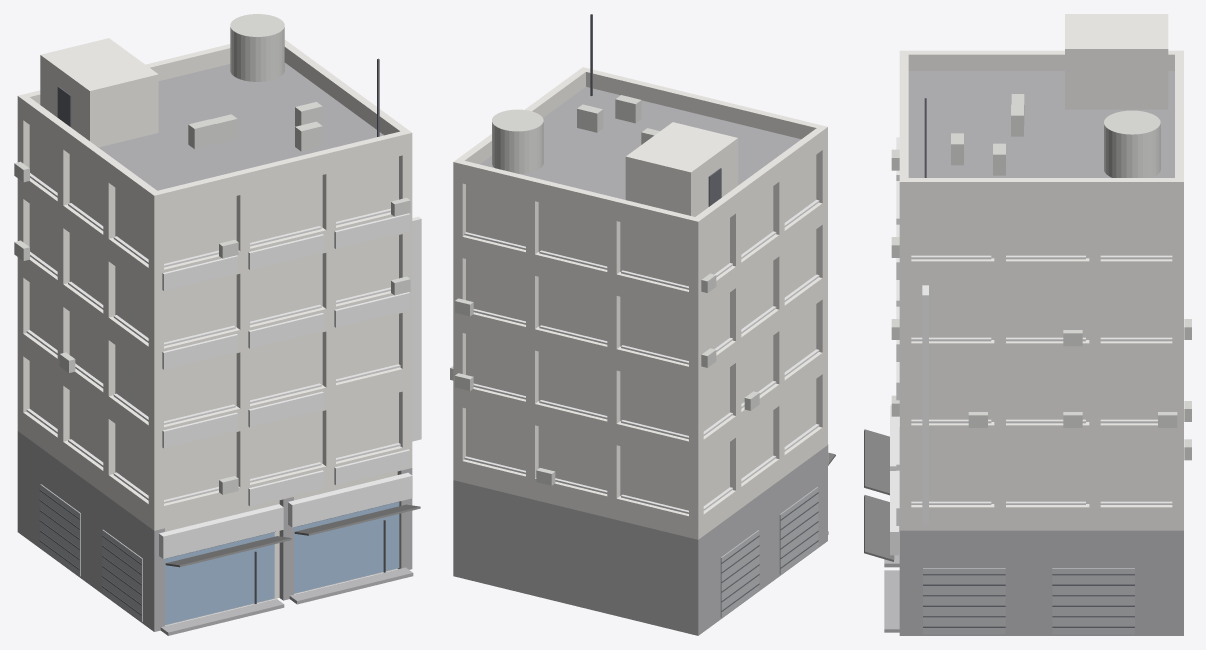
Rendered from bldg_8.glb.
3 renders of one model, left to right at view 1: azimuth 30°, elevation 25°; view 2: azimuth 150°, elevation 25°; view 3: azimuth 270°, elevation 25°, orthographic. The views are drawn at different scales.
Parts seen in each view (by area): view 1: building; view 2: building; view 3: building.
Part boxes in pixels (<box>): building: <box>14,14,421,635</box>; building: <box>450,14,835,635</box>; building: <box>864,14,1191,635</box>.
Bounding box in the file's own units: 13.26 × 22.5 × 12.69.
